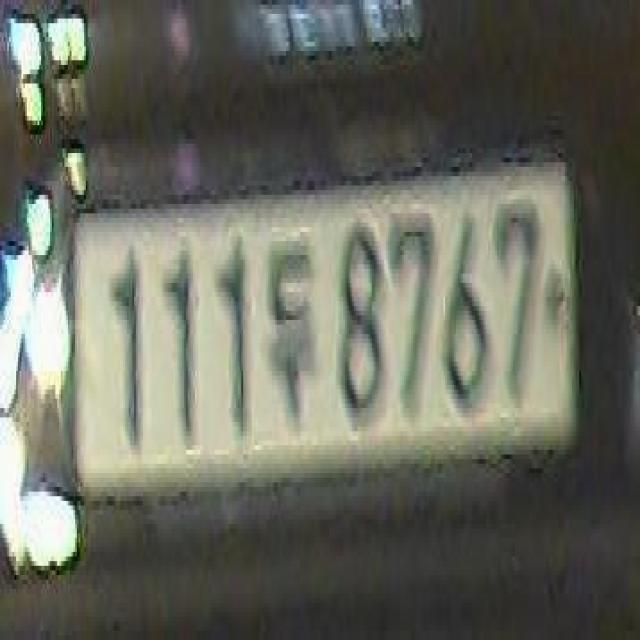illegal_plate: (65, 142, 582, 537)
